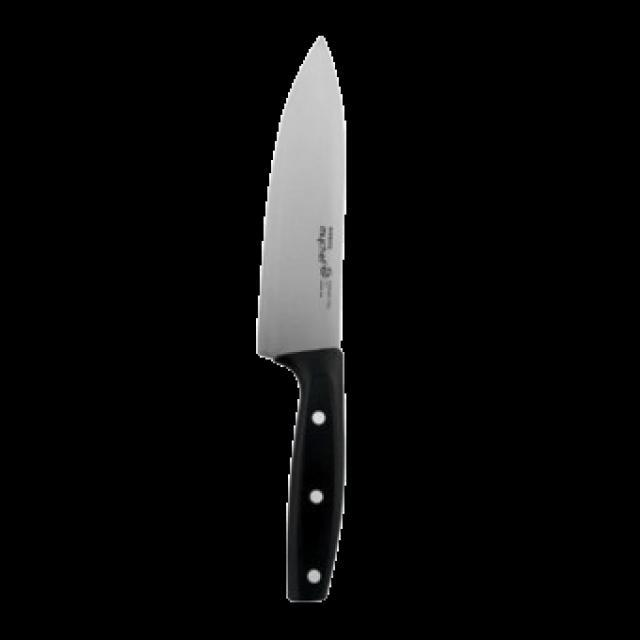knife: (251, 41, 351, 613)
